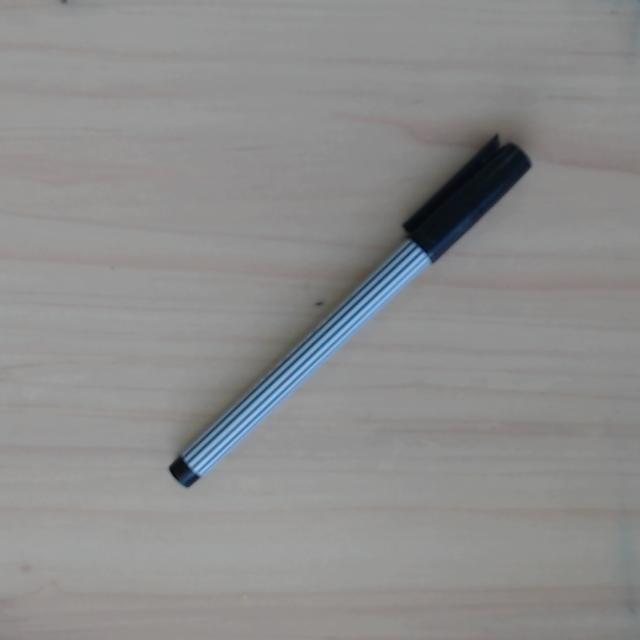Pulpen-Garis-Hitam: (158, 129, 536, 496)
